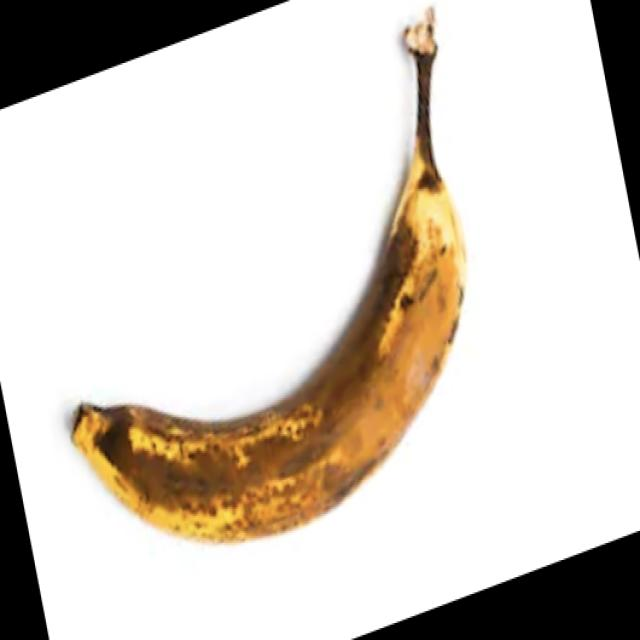overripe: (72, 70, 470, 541)
